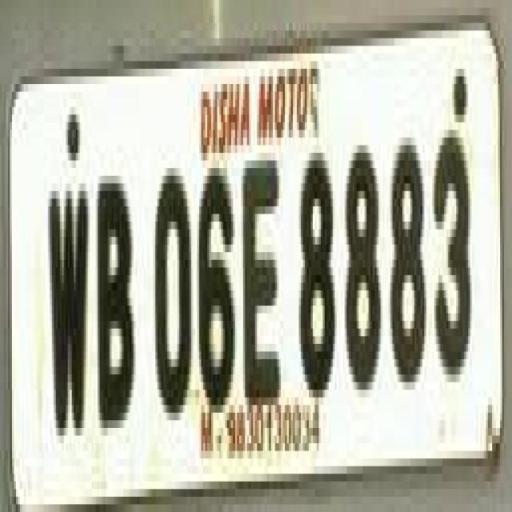number plate: (20, 46, 512, 489)
